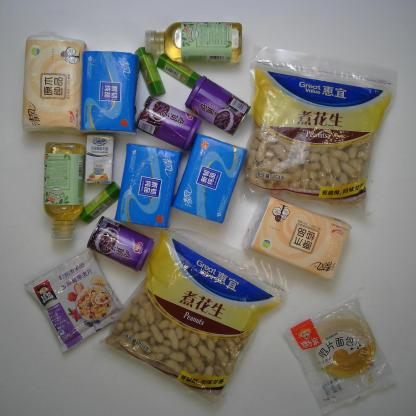Canned Food: (184, 74, 252, 137), (86, 214, 155, 273), (134, 96, 204, 152)
Dessert: (280, 293, 400, 415)
Dried Food: (91, 225, 294, 408), (237, 41, 401, 221)
Drink: (144, 19, 244, 67), (42, 140, 86, 240)
Instant Drink: (22, 249, 123, 354)
Milk: (84, 133, 115, 186)
Stationery: (79, 181, 121, 225), (154, 52, 202, 90), (134, 45, 166, 97)
Tissue: (241, 193, 353, 284), (20, 28, 90, 136), (171, 133, 249, 224), (113, 142, 183, 229), (78, 49, 140, 136)
